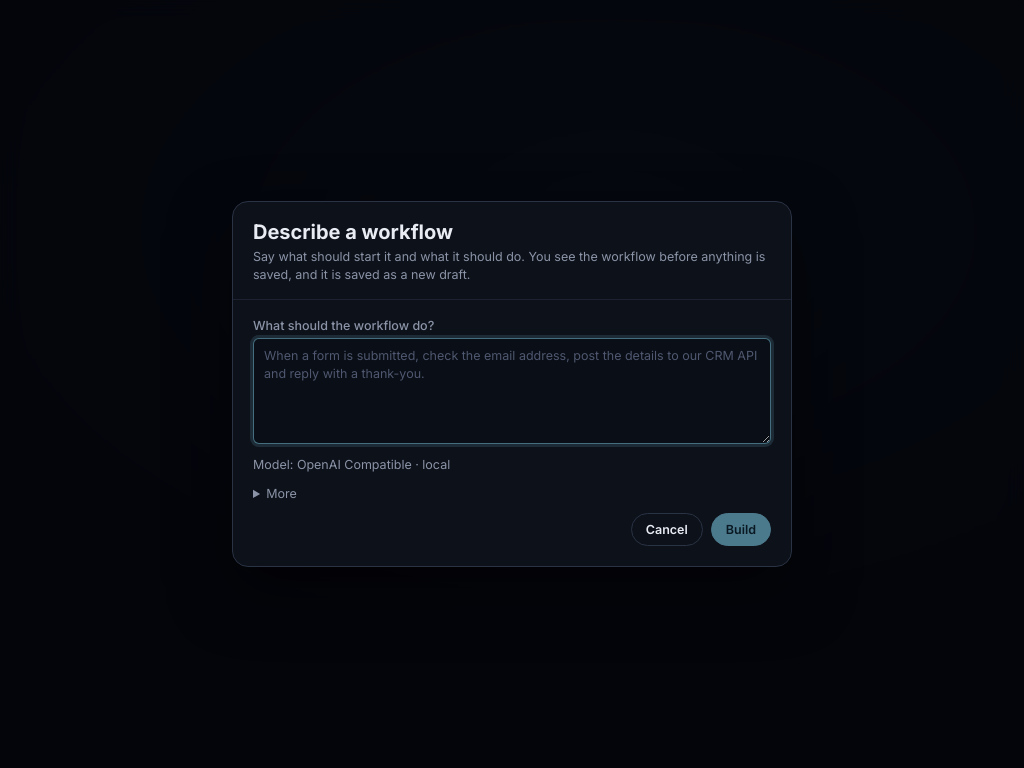
Test case: WorkflowBuilderDialog › another provider drops the base URL and a credential saved for a different provider; a deleted credential is not sent
This screenshot has width=1024, height=768.
expect the text with test id "builder-model" shows "OpenAI Compatible · local": met, box [297, 457, 450, 472]
Type "x" into the text box labelled "What should the workflow do?" at coordinates (512, 391), box [253, 338, 771, 444]
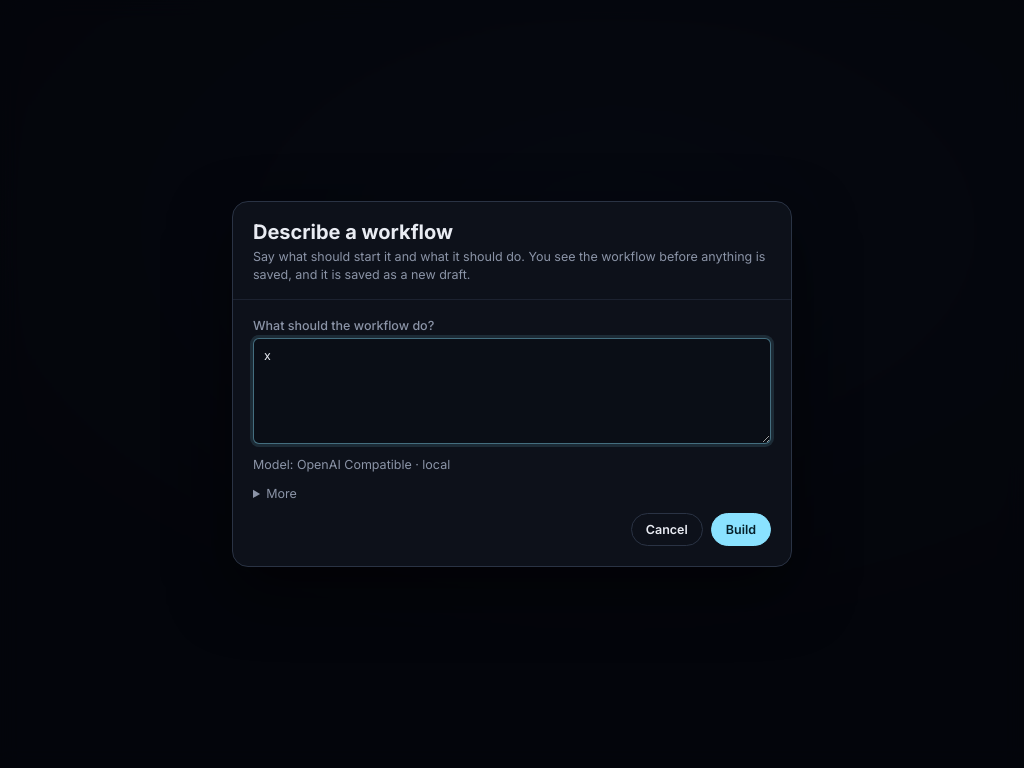
Click the button "Build" at coordinates (741, 530), box [711, 513, 771, 546]
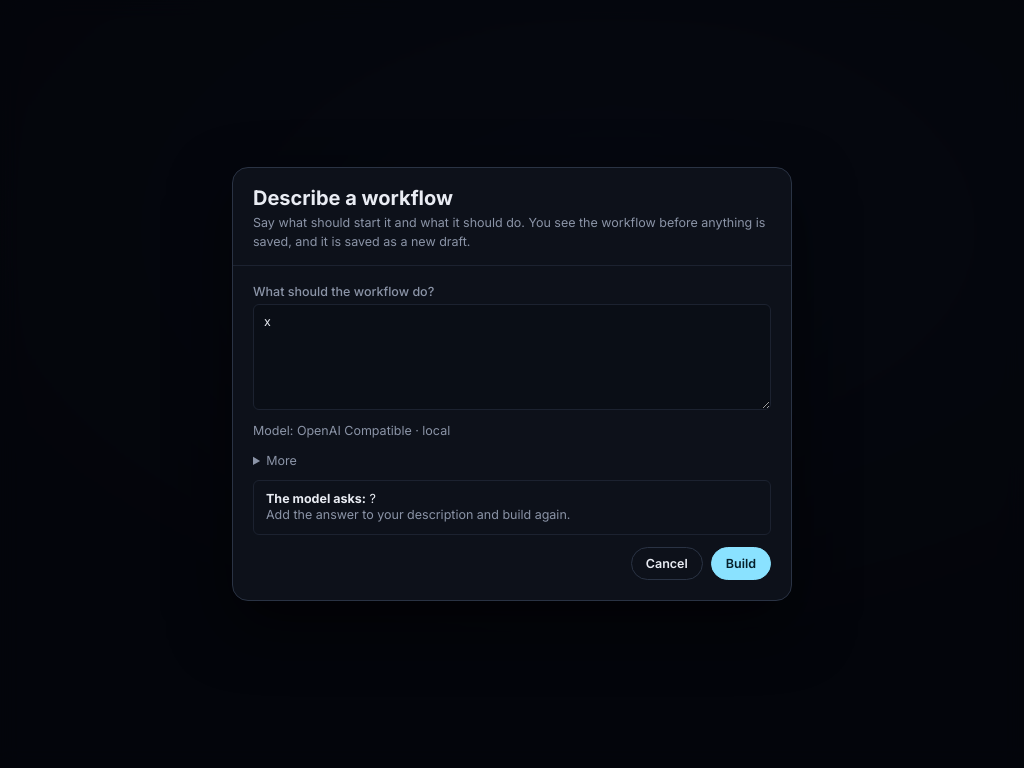
Click the heading "More" at coordinates (282, 460), box [266, 452, 297, 468]
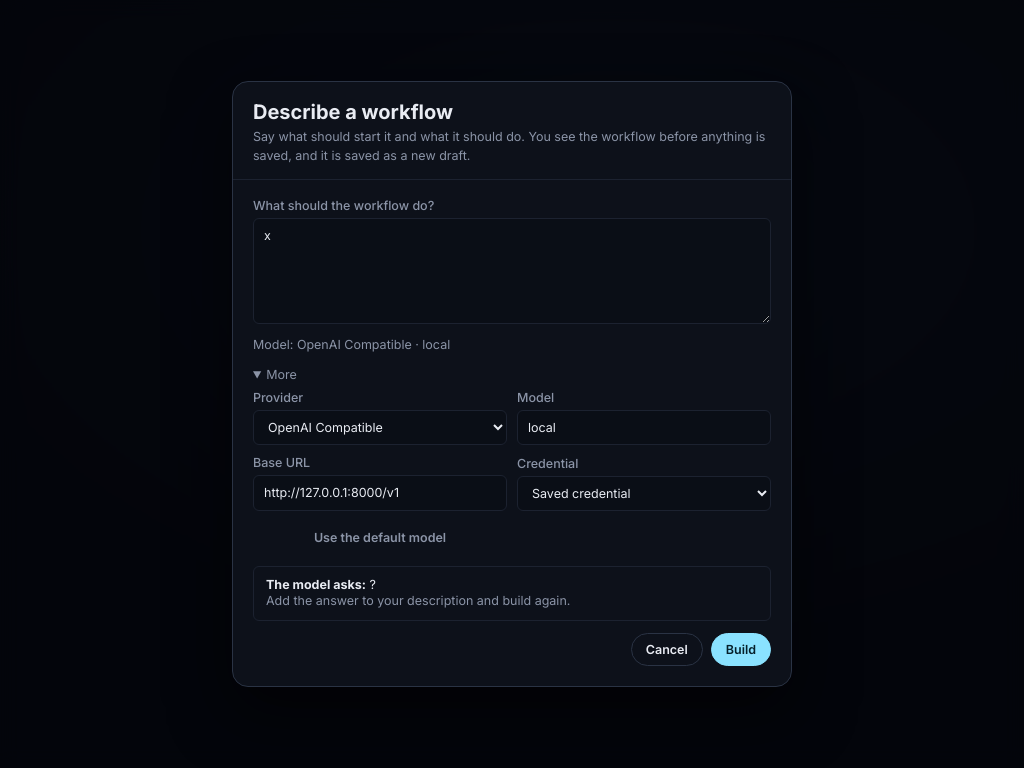
Select "Local LLM key (openai_compatible)" in the dropdown labelled "Credential" at coordinates (644, 493), box [517, 476, 771, 510]
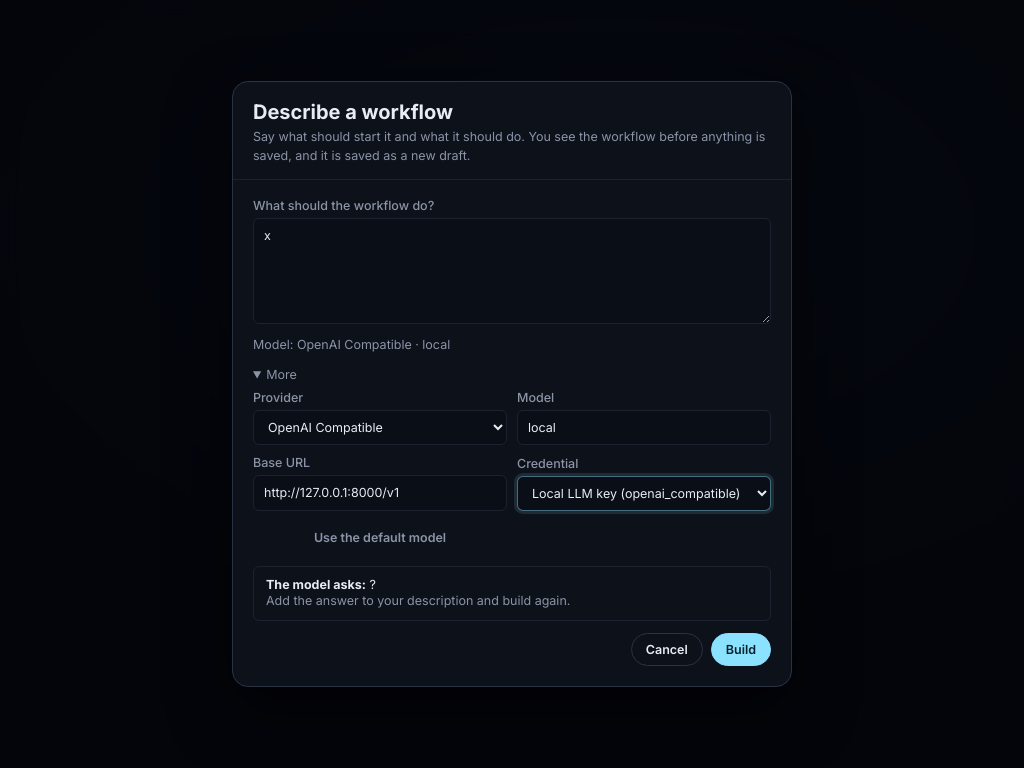
Select "OpenAI" in the dropdown labelled "Provider" at coordinates (380, 428), box [253, 410, 507, 445]
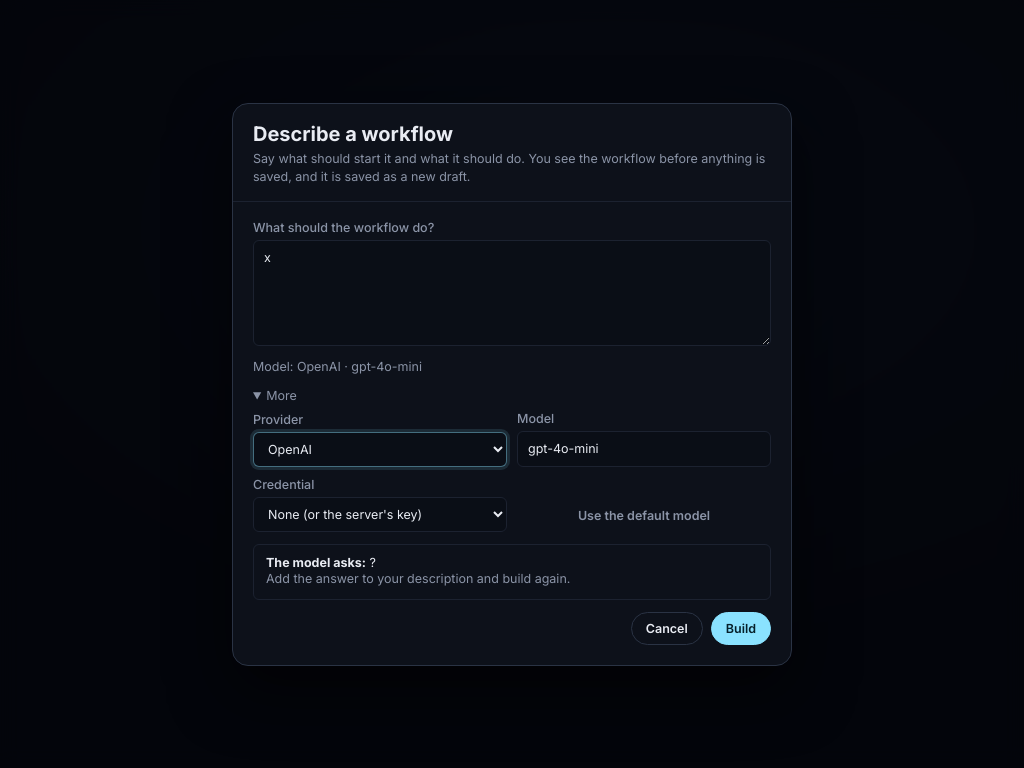
expect the label labelled "Base URL" is gone: met
